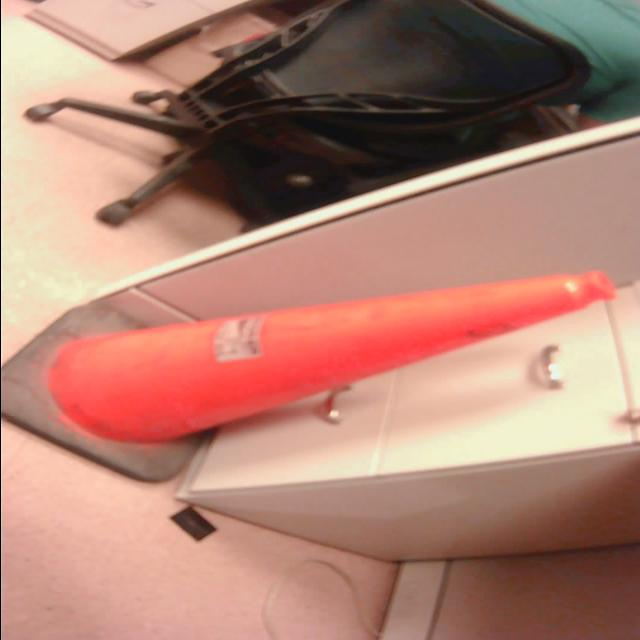traffic cone: (2, 267, 626, 491)
